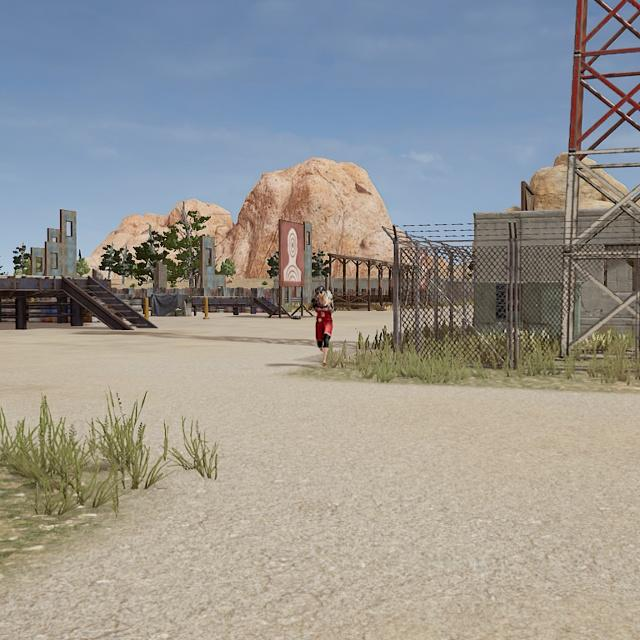head: (313, 284, 328, 301)
people: (307, 283, 337, 369)
